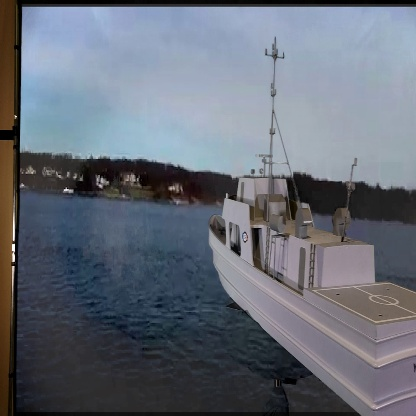YP689: (206, 37, 416, 416)
